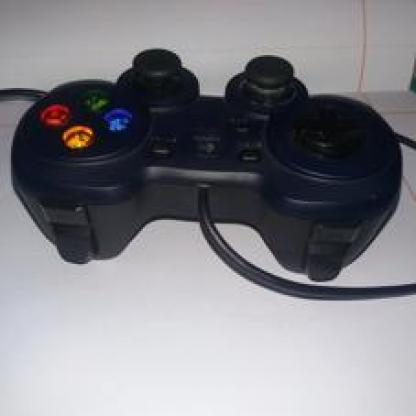gamepad: (18, 43, 403, 307)
